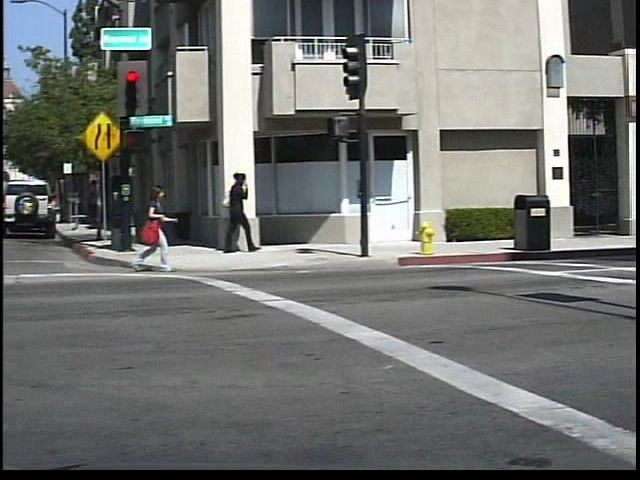person: (137, 181, 188, 274), (223, 169, 266, 256)
